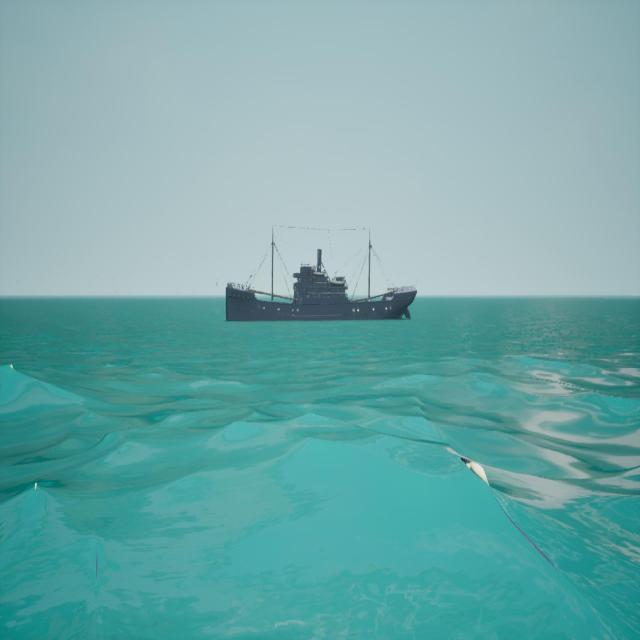fishing ship: (228, 226, 418, 322)
